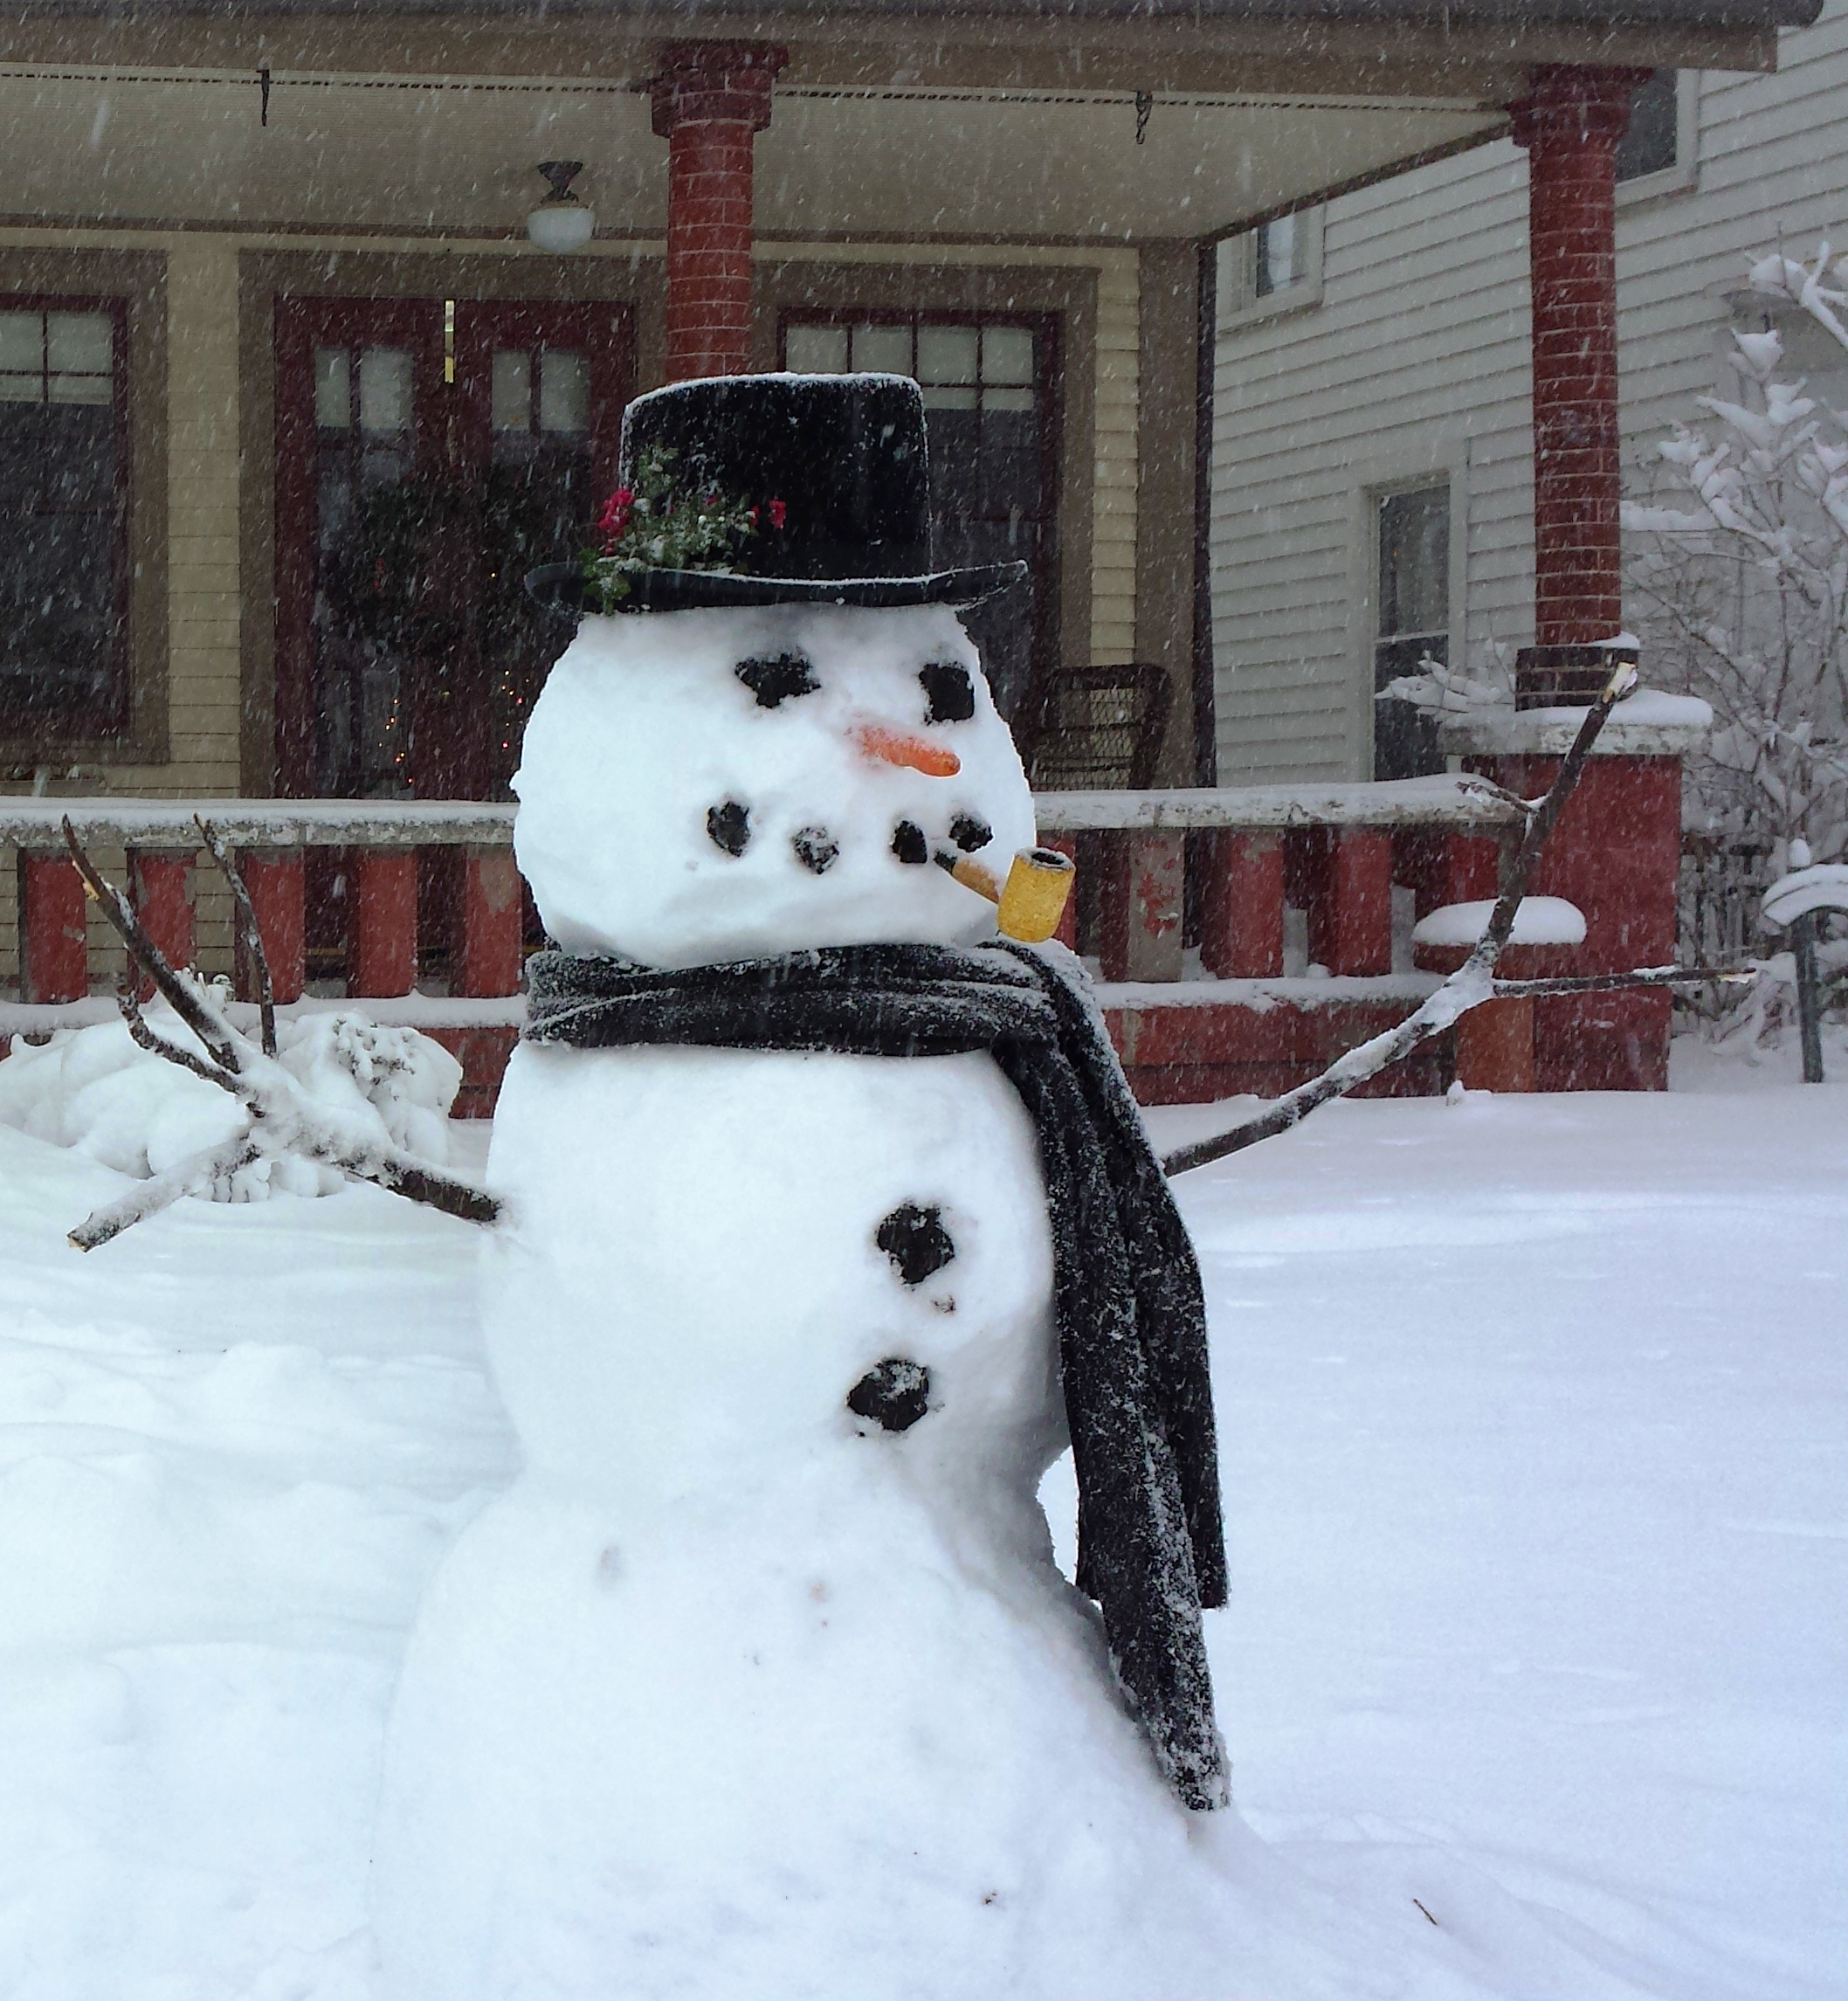person-like: (55, 352, 1610, 2001)
